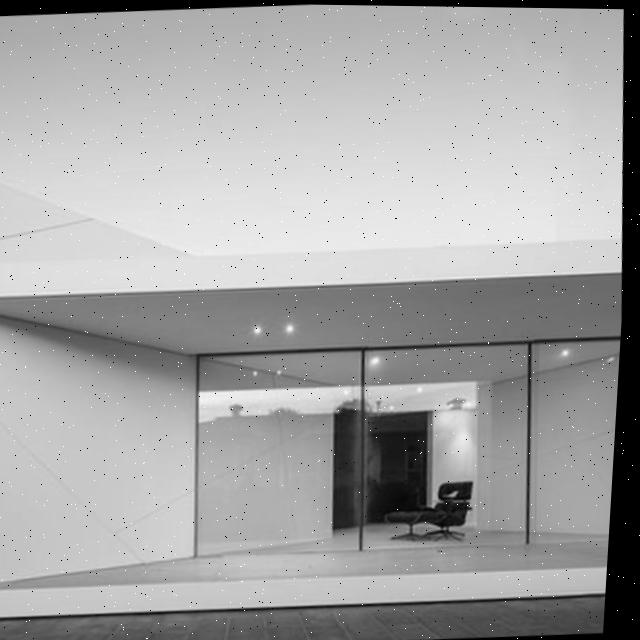building: (0, 141, 632, 628)
